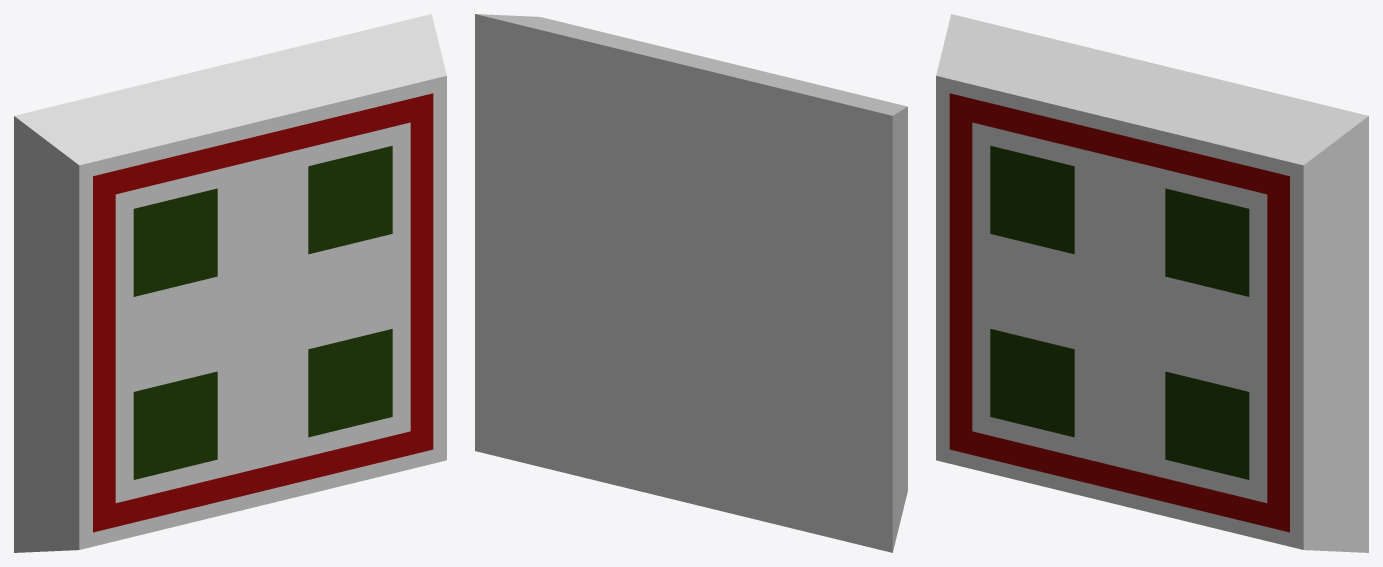
The model's file is SciFi_Semiotic_Autodec_01.fbx.
3 renders of one model, left to right at view 1: azimuth 30°, elevation 25°; view 2: azimuth 150°, elevation 25°; view 3: azimuth 330°, elevation 25°, orthographic.
Visible parts, largest first — view 1: Model; view 2: Model; view 3: Model.
Boxes of the visible parts, left/top/right/bottom form: Model: left=14, top=14, right=446, bottom=552; Model: left=475, top=14, right=907, bottom=552; Model: left=936, top=14, right=1368, bottom=552.
Size of the model in its own units: 251 by 251 by 41.83.
